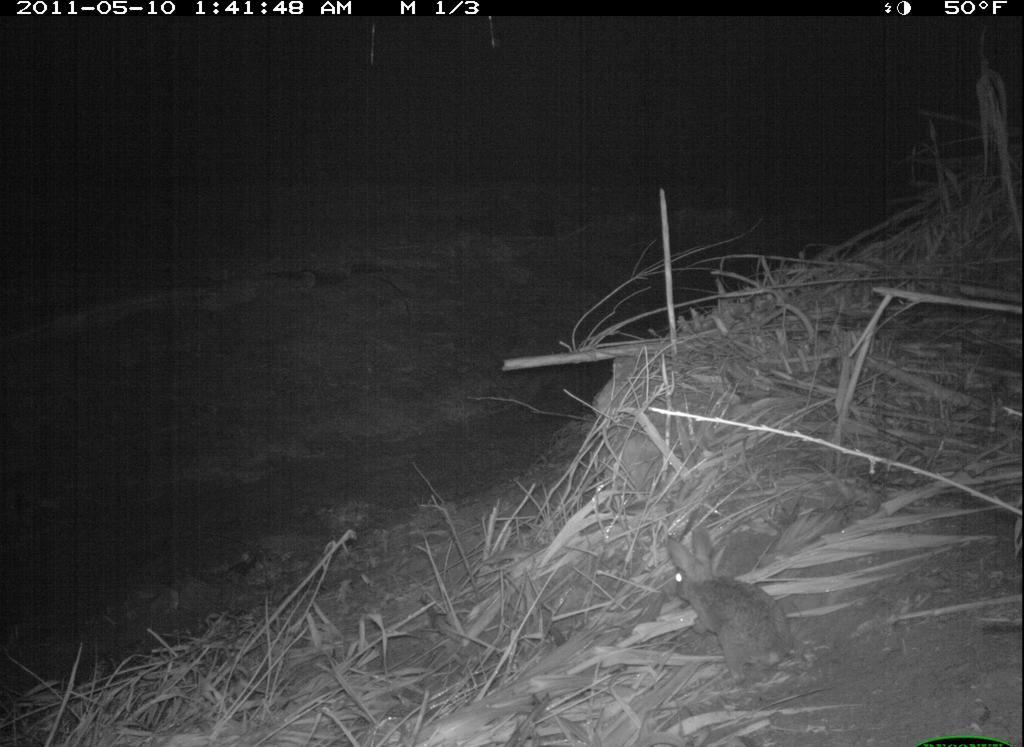rabbit: (644, 523, 834, 710)
